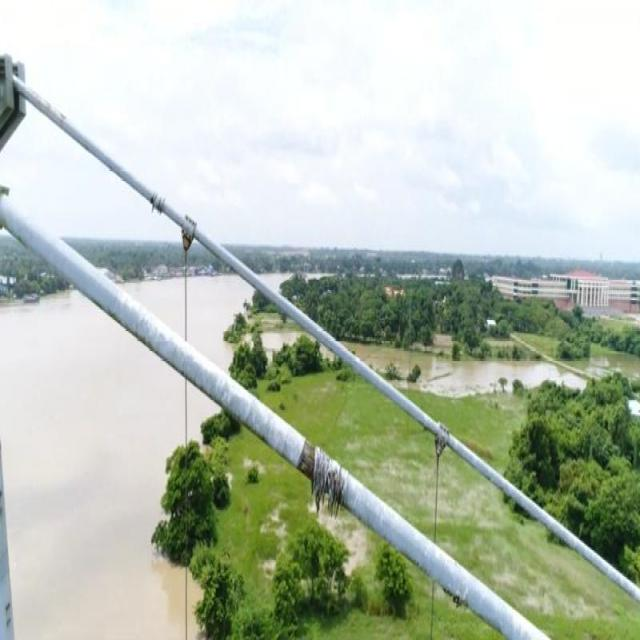corrosion: (294, 437, 349, 518), (148, 193, 167, 214), (434, 430, 445, 460), (449, 590, 463, 606), (181, 232, 192, 250)
